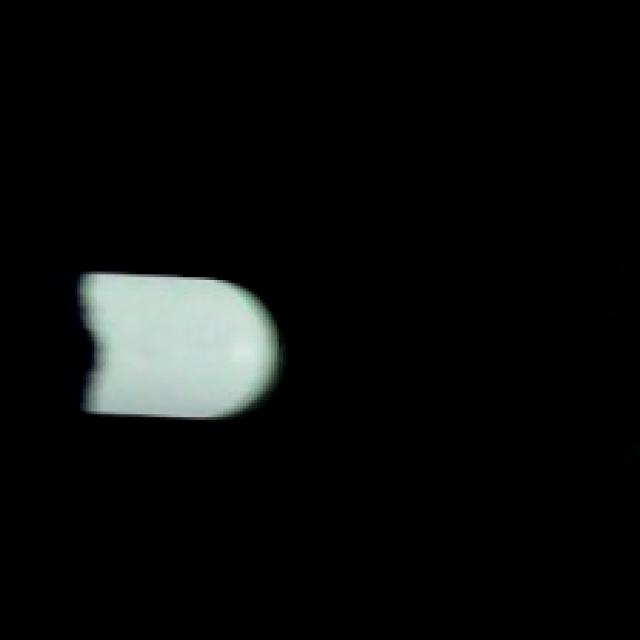defected: (71, 269, 289, 429)
